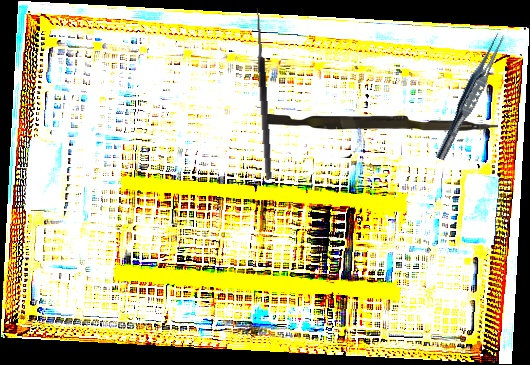Hook Surgical: (245, 7, 273, 181)
Pusher: (267, 114, 498, 131)
Tissue Forceps: (432, 29, 509, 164)
